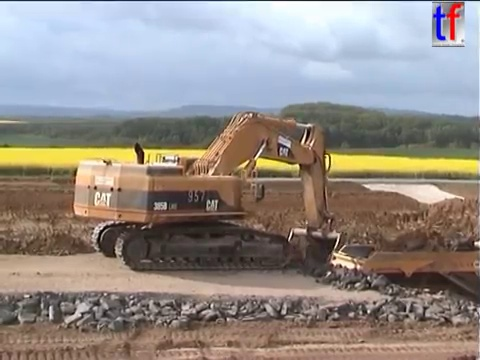excavator: (69, 108, 344, 289)
truck: (328, 237, 480, 330)
